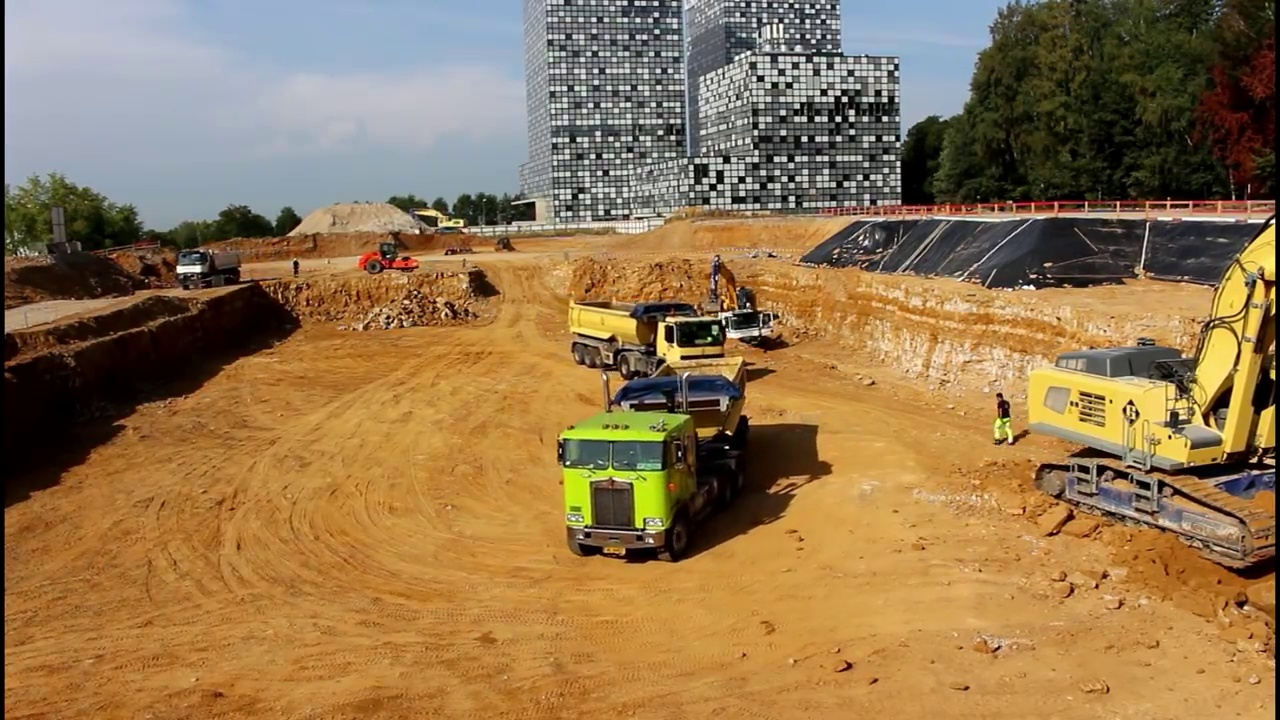compactor: (358, 241, 420, 276)
excavator: (1023, 209, 1280, 582), (703, 251, 765, 327), (409, 203, 468, 238)
truck: (553, 354, 753, 568), (568, 292, 729, 385), (685, 303, 774, 354), (174, 244, 246, 292)
worker: (989, 388, 1017, 452), (291, 255, 306, 285)
